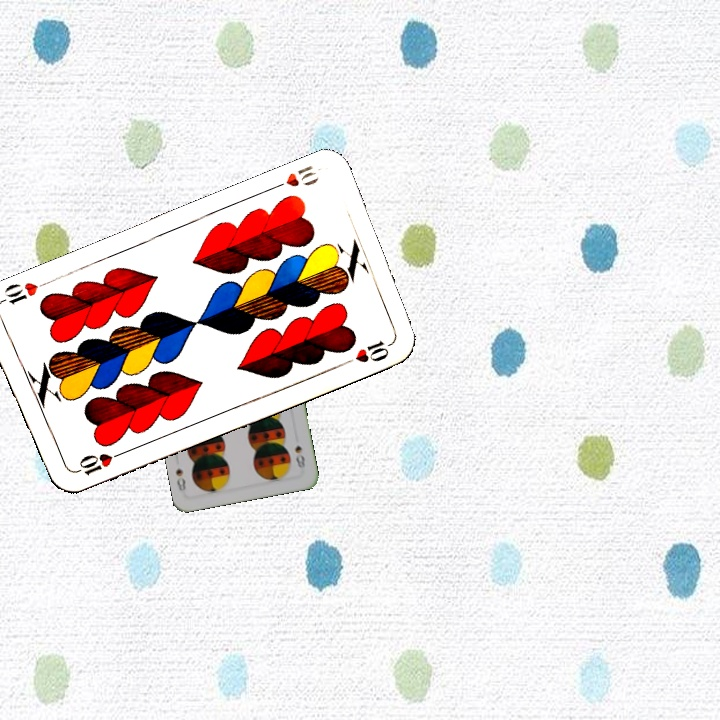H10: (69, 447, 126, 478), (267, 161, 322, 193)
S8: (291, 442, 308, 470)
